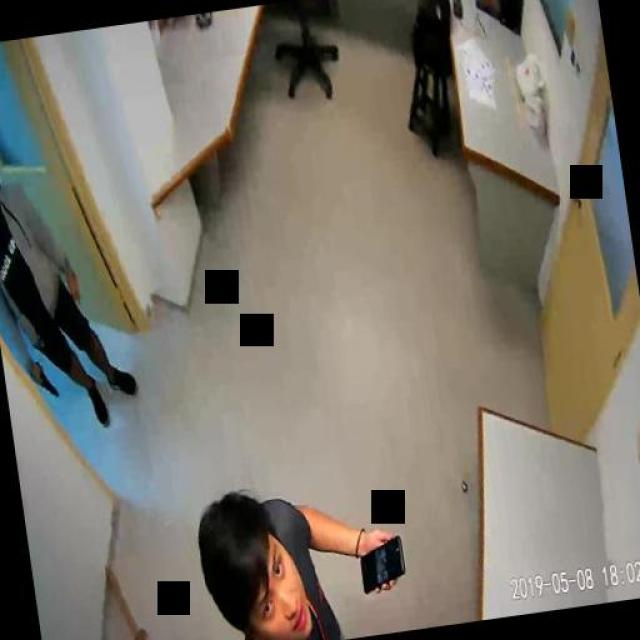gun: (34, 359, 58, 399)
